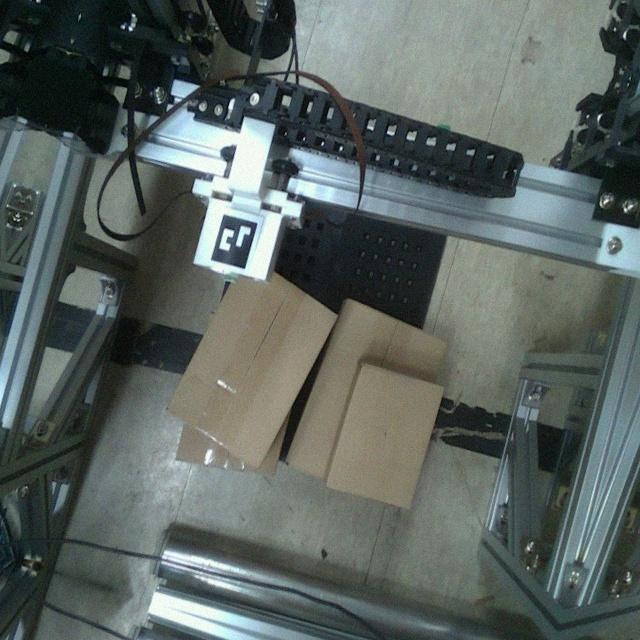box: (318, 356, 454, 518)
